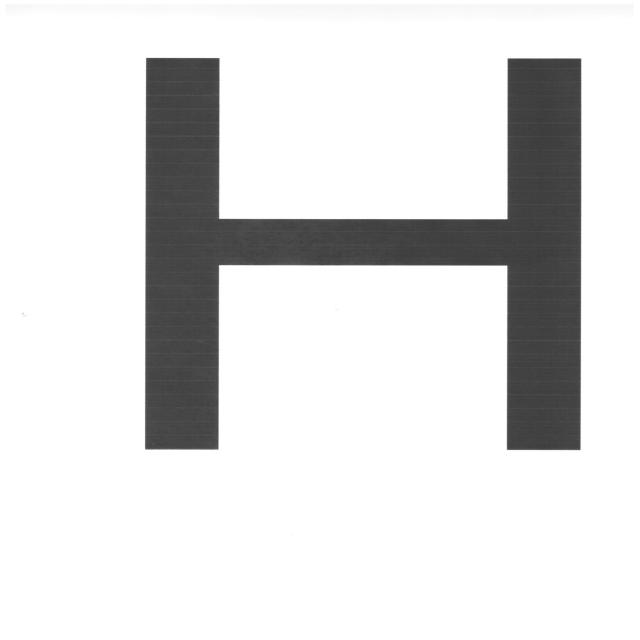h: (117, 29, 640, 472)
